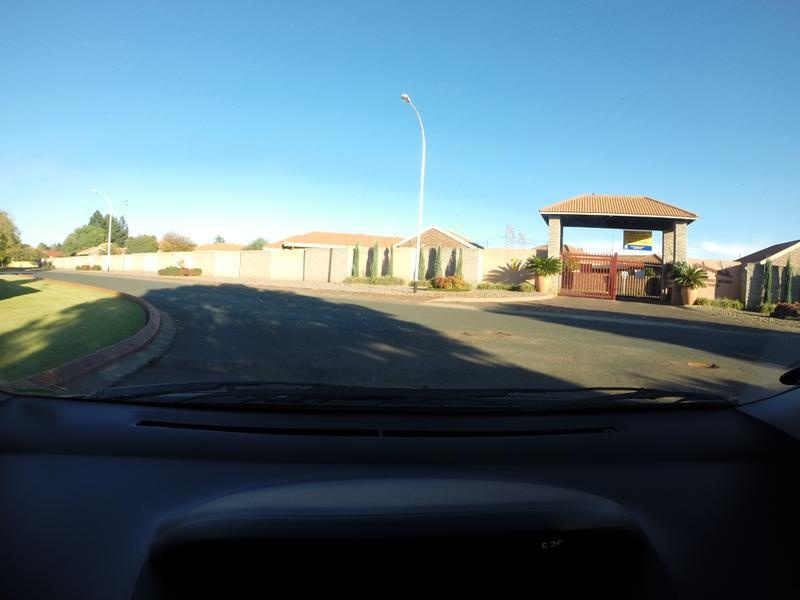pothole: (663, 352, 732, 387), (452, 324, 516, 346)
